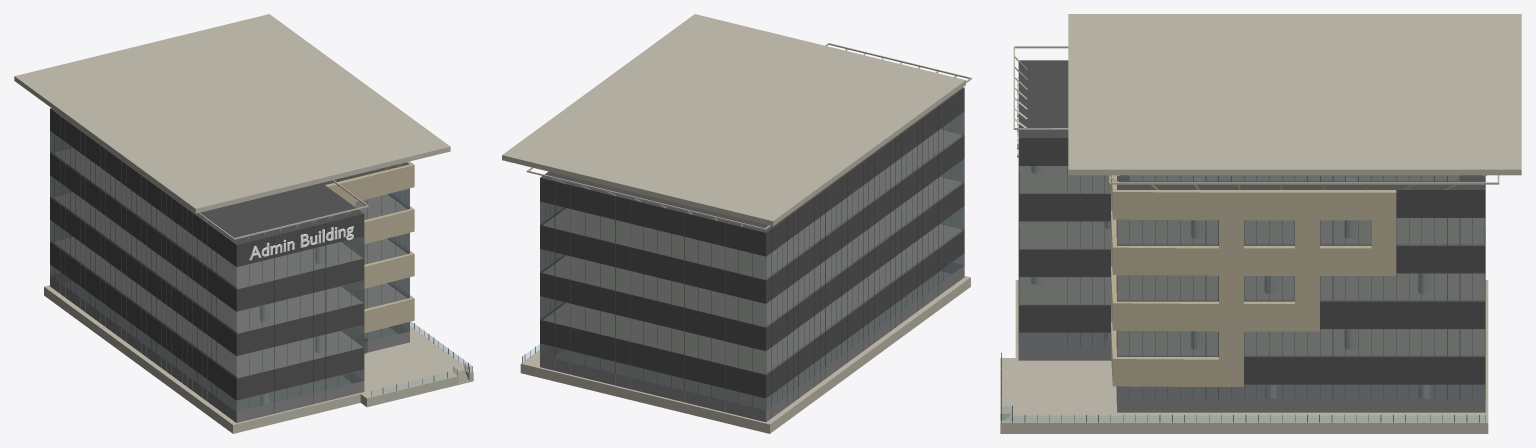
File: Admin Building.fbx
3 views of the same model, side by side, from view 1: azimuth 30°, elevation 25°; view 2: azimuth 150°, elevation 25°; view 3: azimuth 270°, elevation 25° (orthographic). The views are drawn at different scales.
Visible parts, largest first — view 1: Building, Building.001, High Ground, Armour, Barrier, Admin Building Sign, Guardrail; view 2: Building, Building.001, High Ground, Guardrail; view 3: Building, Armour, Building.001, High Ground, Barrier, Guardrail.
Part boxes in pixels (left/top/right/bottom): Building: left=14, top=14, right=450, bottom=422; Building.001: left=52, top=148, right=406, bottom=377; High Ground: left=44, top=285, right=473, bottom=433; Armour: left=325, top=161, right=414, bottom=333; Barrier: left=371, top=321, right=472, bottom=396; Admin Building Sign: left=249, top=226, right=353, bottom=260; Guardrail: left=198, top=163, right=403, bottom=239; Building: left=502, top=14, right=965, bottom=422; Building.001: left=543, top=129, right=961, bottom=374; High Ground: left=520, top=276, right=970, bottom=433; Guardrail: left=526, top=43, right=971, bottom=230; Building: left=1018, top=14, right=1521, bottom=412; Armour: left=1111, top=175, right=1396, bottom=386; Building.001: left=1020, top=166, right=1484, bottom=356; High Ground: left=1000, top=280, right=1488, bottom=433; Barrier: left=1001, top=352, right=1485, bottom=422; Guardrail: left=1013, top=46, right=1499, bottom=189.
Bounding box in the file's own units: 5994 × 4801 × 8488.
